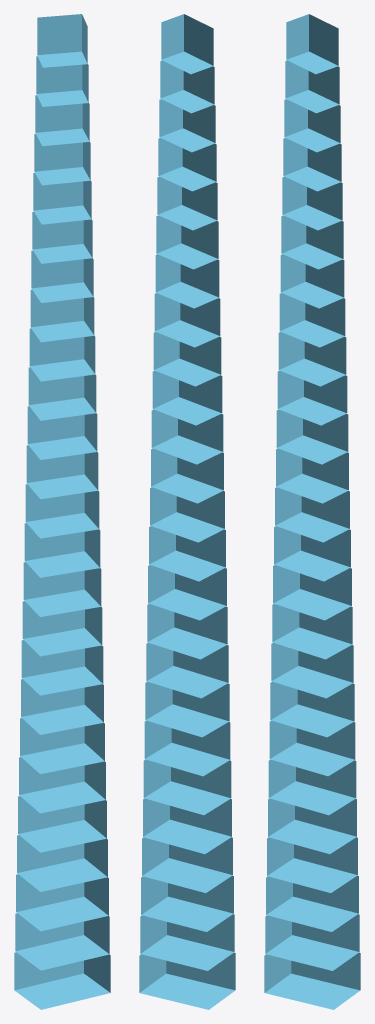
The model's file is waldorf-astoria.glb.
The picture shows the model from 3 angles, left to right: view 1: azimuth 30°, elevation 25°; view 2: azimuth 150°, elevation 25°; view 3: azimuth 330°, elevation 25°; orthographic projection.
Size of the model in its own units: 30 by 400 by 20.09.
